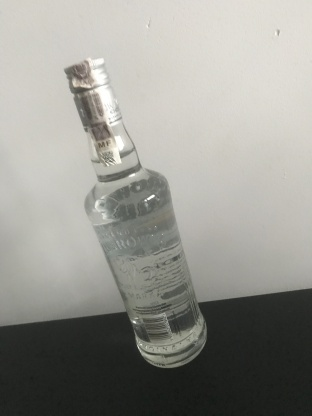nakretka: (61, 54, 123, 133)
